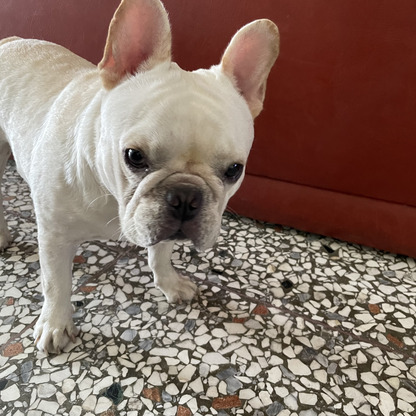bulldog: (1, 1, 283, 358)
